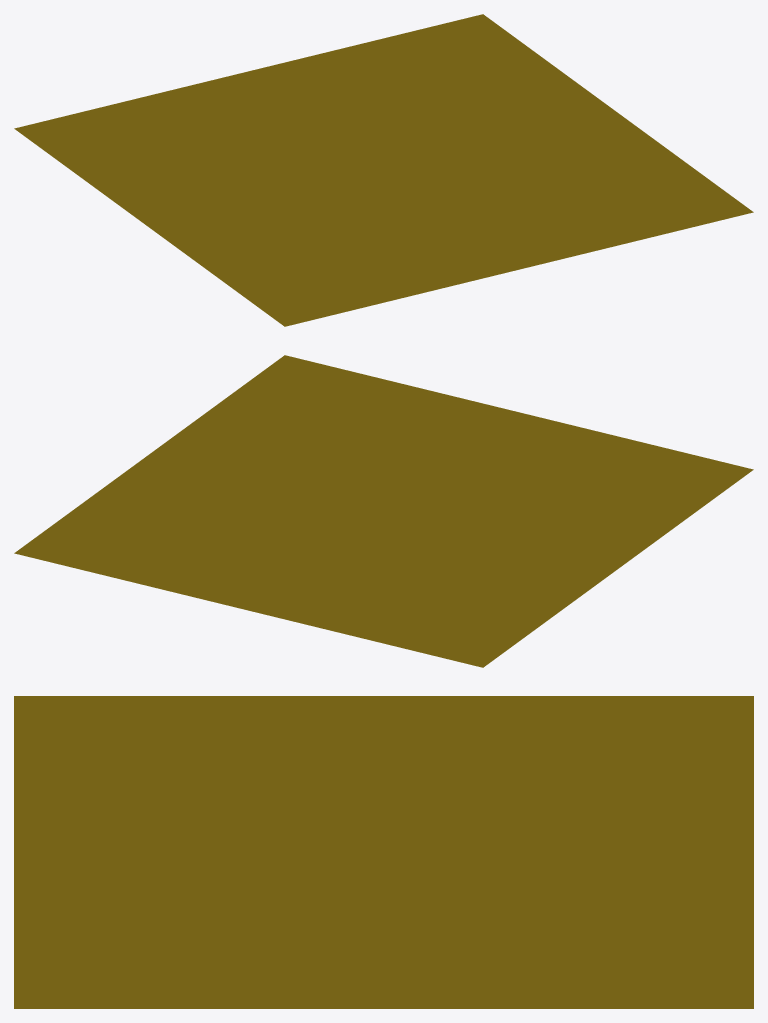
Rendered from 2x2_unplantableGroundA.glb.
3 views of the same model, one above another, from view 1: azimuth 30°, elevation 25°; view 2: azimuth 150°, elevation 25°; view 3: azimuth 270°, elevation 25° (orthographic). The views are drawn at different scales.
Visible parts, largest first — view 1: ground; view 2: ground; view 3: ground.
Boxes of the visible parts, left/top/right/bottom form: ground: left=14, top=14, right=753, bottom=326; ground: left=14, top=355, right=753, bottom=667; ground: left=14, top=696, right=753, bottom=1008.
Size of what is drawn, in the model's own units: 32 by 0 by 32.
